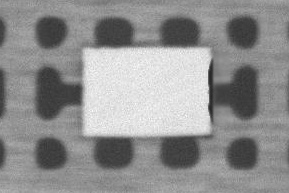DIE_BROKEN: (205, 58, 213, 122)
